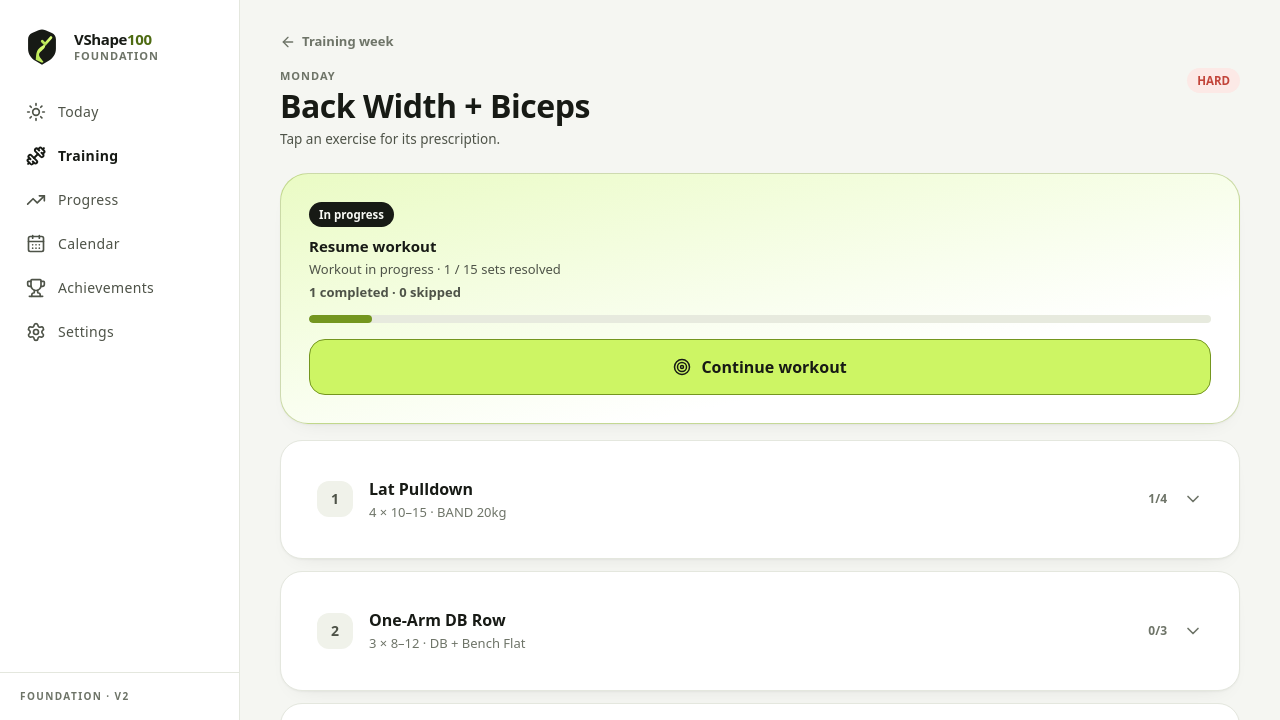
Test case: 2. starting-load calibration › 2. offers the choices once a first set is genuinely completed
Expected: the heading "Back Width + Biceps" is shown, [280,88,590,125]
Expected: the text "Resume workout" is shown, [309,236,436,256]
What coordinates should you click on to do the following:
click the button "1 Lat Pulldown 4 × 10–15 · BAND 20kg 1/4"
I would click on:
 (335, 499)
Its box is [301,461,1219,538].
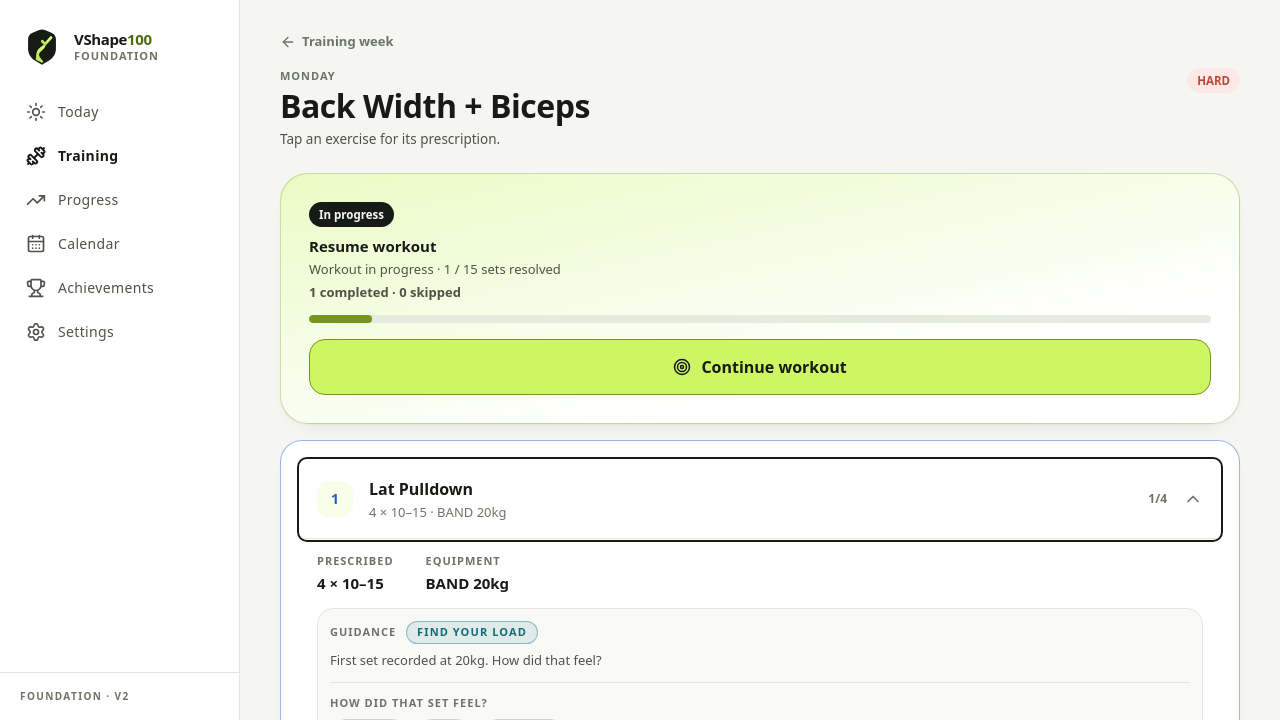
Now the text "First set recorded at 20kg. How did that feel?" is shown, box [330,651,602,669]
